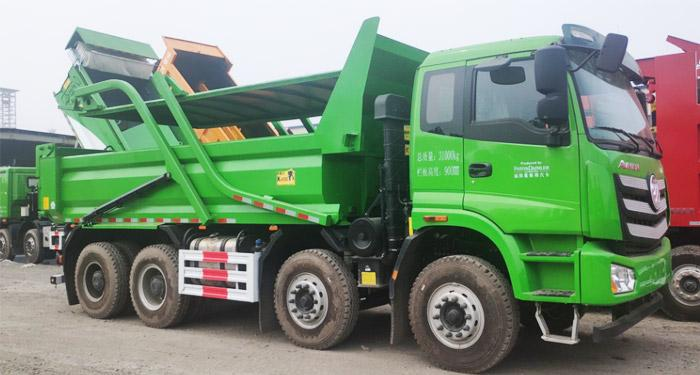truck: (25, 14, 679, 366)
